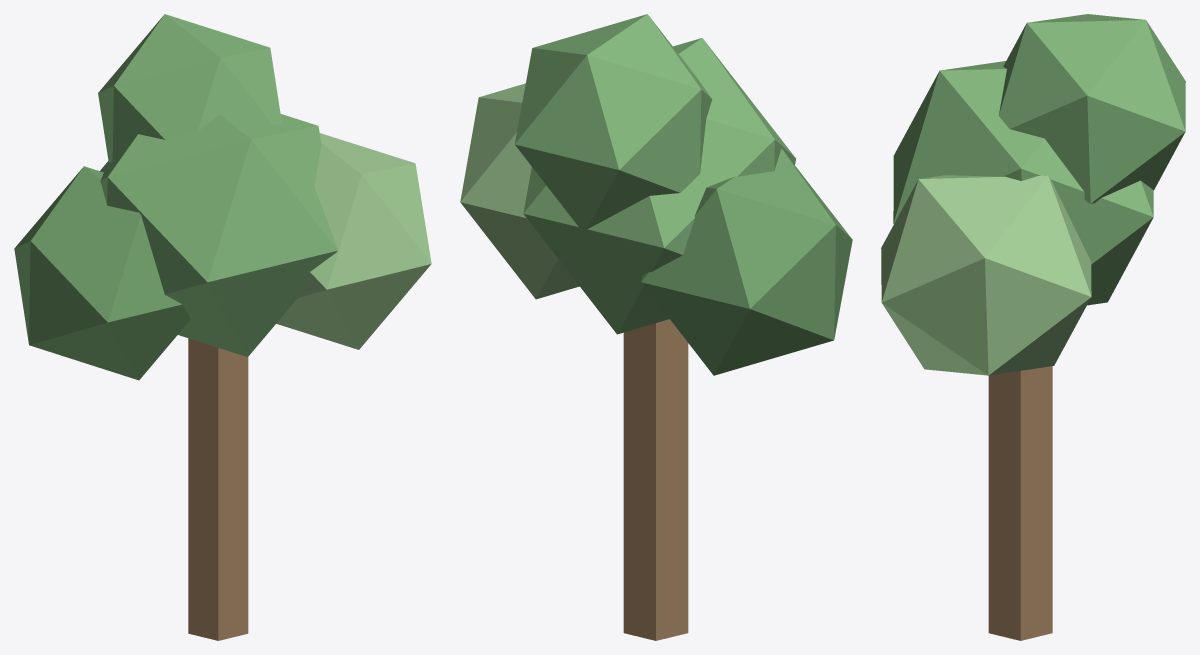
File: animprop_tree_07.glb
3 views of the same model, side by side, from view 1: azimuth 30°, elevation 25°; view 2: azimuth 150°, elevation 25°; view 3: azimuth 270°, elevation 25° (orthographic). The views are drawn at different scales.
Visible parts, largest first — view 1: animprop; view 2: animprop; view 3: animprop.
Part boxes in pixels (bbox=[...]): animprop: bbox=[14, 14, 431, 640]; animprop: bbox=[460, 14, 852, 640]; animprop: bbox=[881, 14, 1185, 640].
Size of the model in its own units: 1.79 by 2.72 by 1.23.
